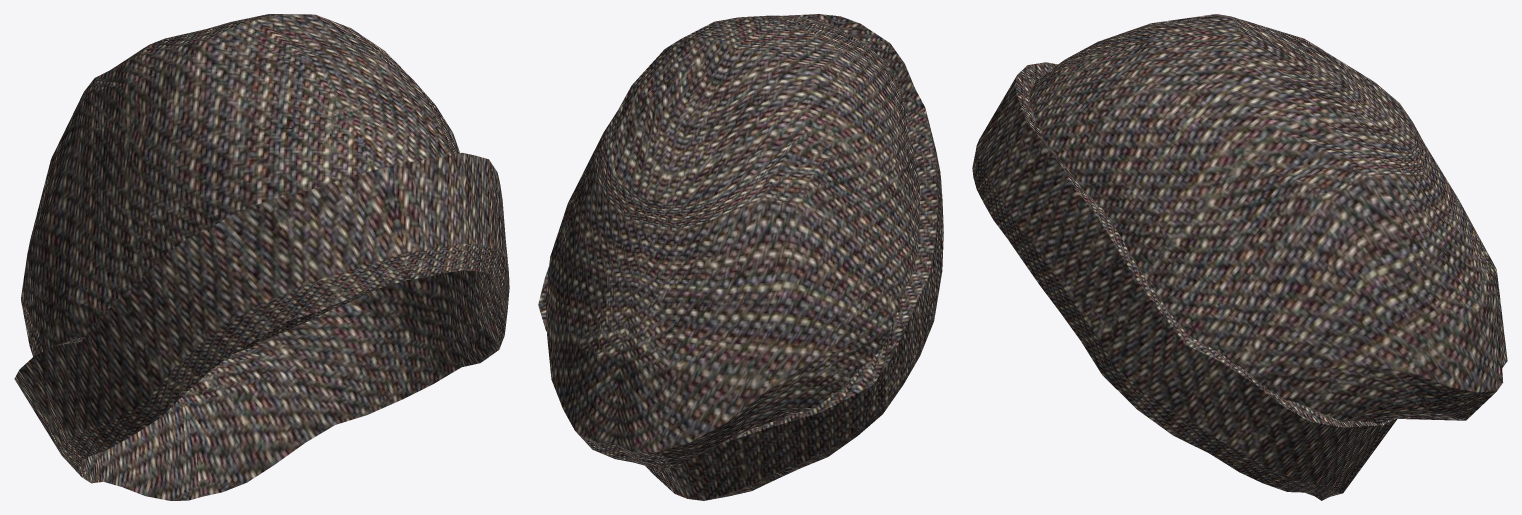
Rendered from mhw_elvs_slouchy_beanie1.glb.
3 renders of one model, left to right at view 1: azimuth 30°, elevation 25°; view 2: azimuth 150°, elevation 25°; view 3: azimuth 270°, elevation 25°, orthographic. The views are drawn at different scales.
Visible parts, largest first — view 1: mhw_elvs_slouchy_beanie1; view 2: mhw_elvs_slouchy_beanie1; view 3: mhw_elvs_slouchy_beanie1.
Part boxes in pixels (x1,y1,x2,y2): mhw_elvs_slouchy_beanie1: (14,14,509,500); mhw_elvs_slouchy_beanie1: (538,14,943,500); mhw_elvs_slouchy_beanie1: (972,14,1507,500).
Size of the model in its own units: 0.2088 by 0.2407 by 0.2565.
Materials: 1 (1 with a texture image).
